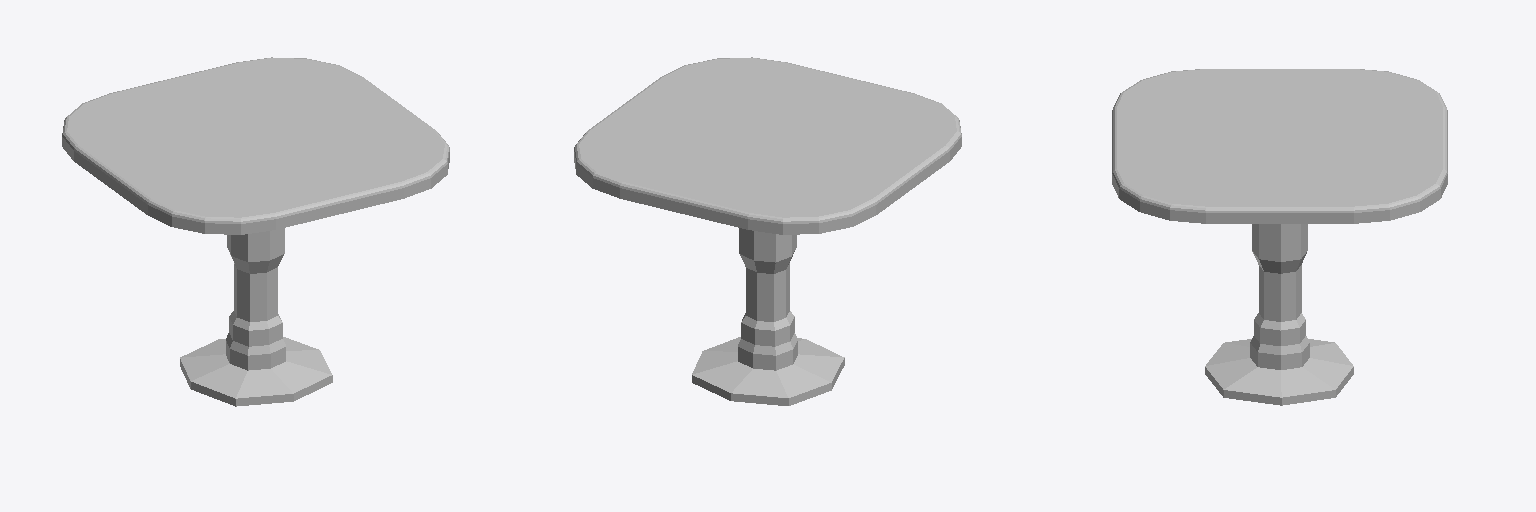
The model's file is table2.obj.
3 renders of one model, left to right at view 1: azimuth 30°, elevation 25°; view 2: azimuth 150°, elevation 25°; view 3: azimuth 270°, elevation 25°, orthographic.
Visible parts, largest first — view 1: Table_2; view 2: Table_2; view 3: Table_2.
Boxes of the visible parts, <box> form: Table_2: <box>62,57,449,406</box>; Table_2: <box>574,57,961,405</box>; Table_2: <box>1112,69,1447,405</box>.
Bounding box in the file's own units: 2 × 1.55 × 2.